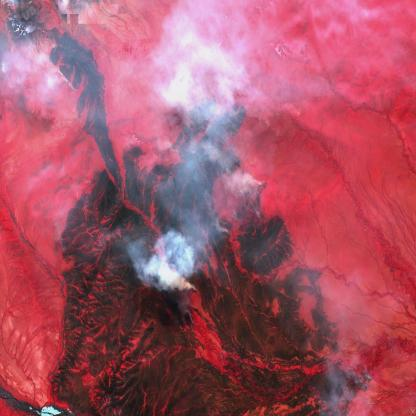fire: (164, 96, 276, 299), (44, 42, 92, 128), (319, 360, 386, 416)
